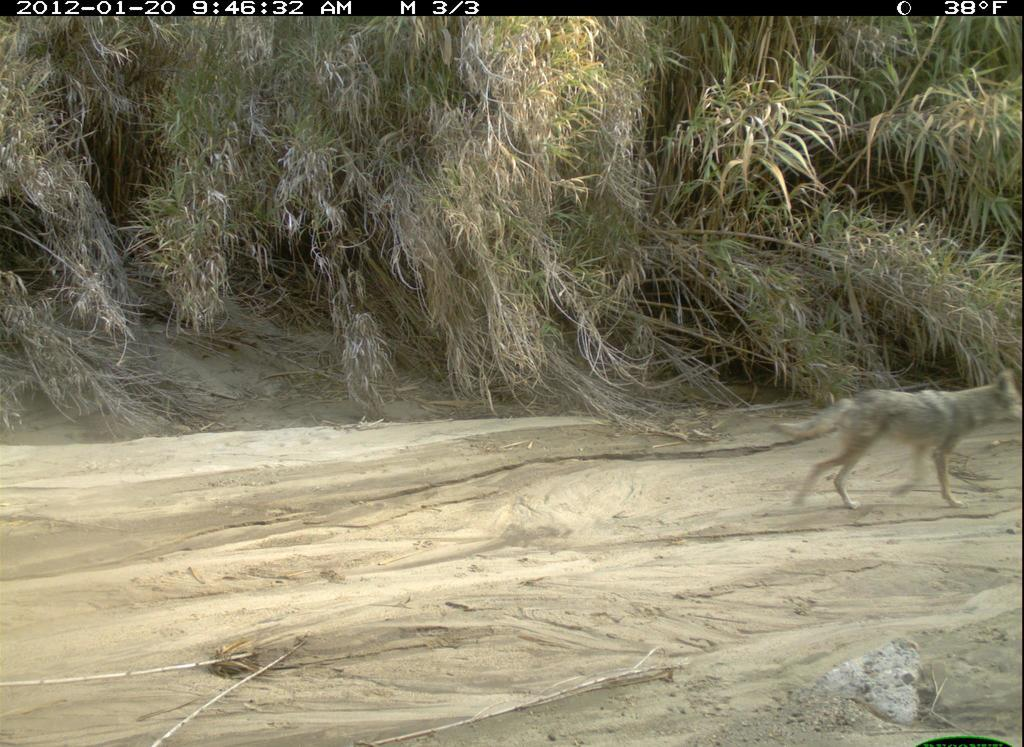coyote: (763, 365, 1022, 518)
